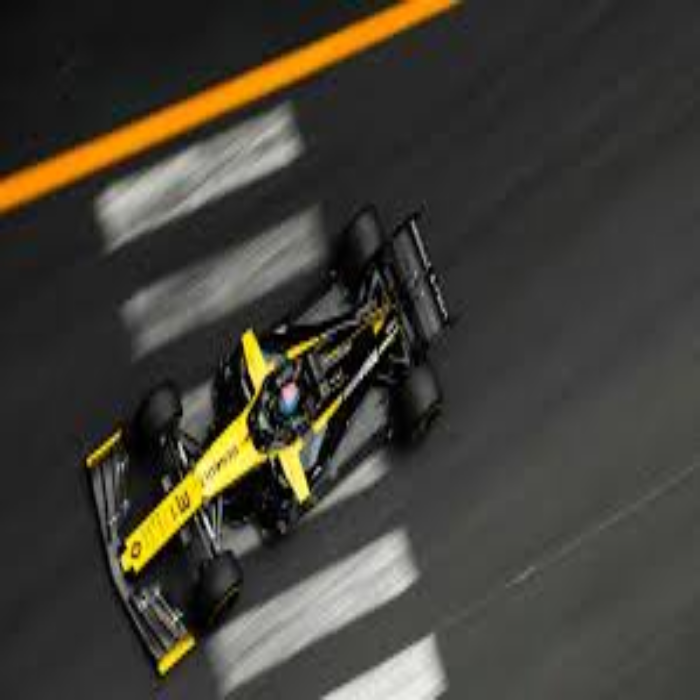f1_car: (62, 204, 552, 663)
